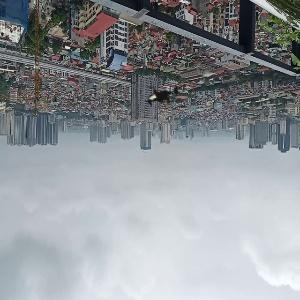drone: (136, 66, 191, 121)
